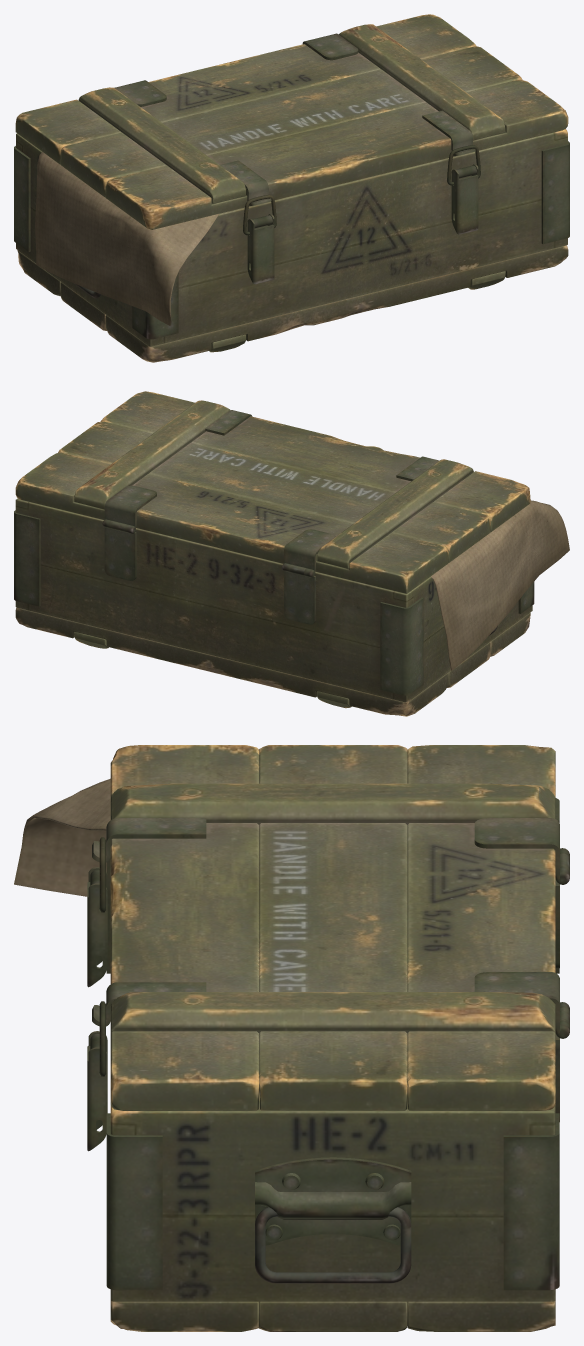
Rendered from crate.glb.
3 renders of one model, top to bottom at view 1: azimuth 30°, elevation 25°; view 2: azimuth 150°, elevation 25°; view 3: azimuth 270°, elevation 25°, orthographic. The views are drawn at different scales.
Parts seen in each view (by area): view 1: old_military_crate_lid_a, old_military_crate_a, old_military_crate_cloth_a, old_military_crate_latch_a, old_military_crate_loop_a; view 2: old_military_crate_lid_a, old_military_crate_a, old_military_crate_cloth_a; view 3: old_military_crate_lid_a, old_military_crate_a, old_military_crate_cloth_a, old_military_crate_latch_a, old_military_crate_loop_a.
Part boxes in pixels (x1,y1,x2,y2): old_military_crate_lid_a: (15,14,568,230); old_military_crate_a: (14,129,569,362); old_military_crate_cloth_a: (35,152,219,325); old_military_crate_latch_a: (247,164,478,284); old_military_crate_loop_a: (243,145,480,235); old_military_crate_lid_a: (15,391,530,593); old_military_crate_a: (14,498,534,716); old_military_crate_cloth_a: (431,500,569,670); old_military_crate_lid_a: (92,745,569,1110); old_military_crate_a: (106,798,569,1331); old_military_crate_cloth_a: (14,778,110,896); old_military_crate_latch_a: (87,867,107,1151); old_military_crate_loop_a: (99,837,105,1076).
Size of the model in its own units: 0.8154 by 0.3009 by 0.5376.
Materials: 1 (1 with a texture image).
